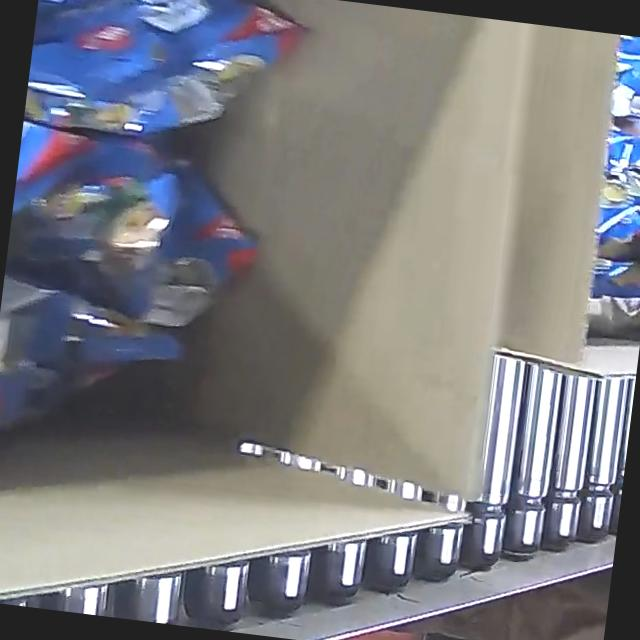paprika: (0, 0, 314, 492), (580, 34, 640, 328)
